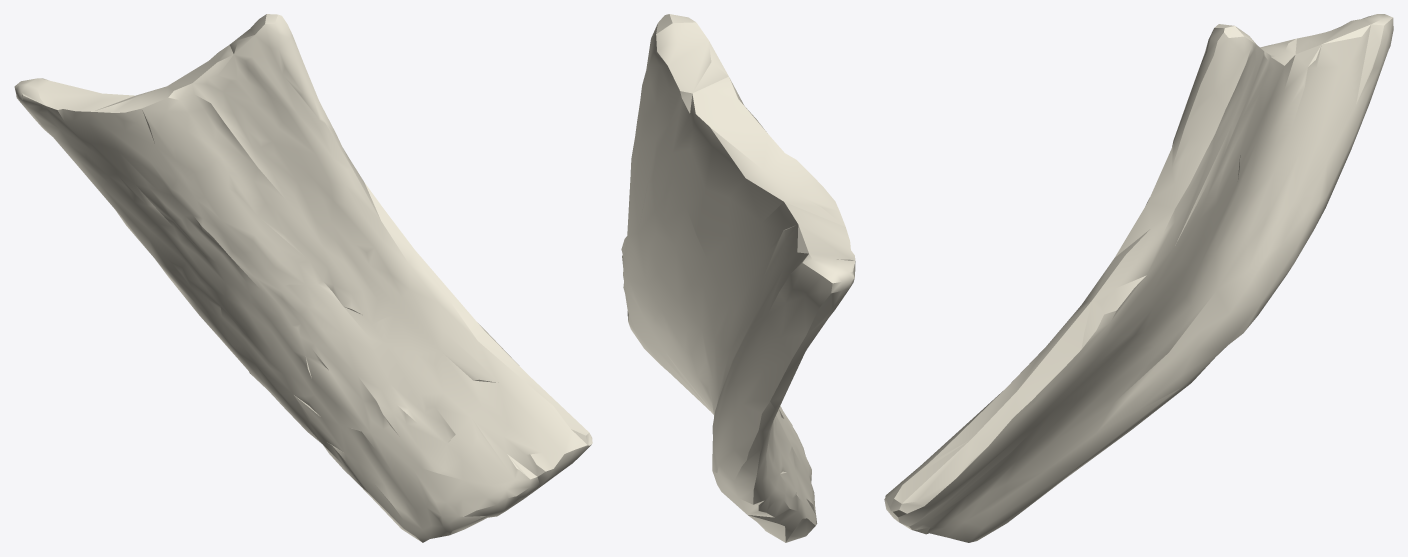
File: fma44073_mm1362.glb
3 renders of one model, left to right at view 1: azimuth 30°, elevation 25°; view 2: azimuth 150°, elevation 25°; view 3: azimuth 270°, elevation 25°, orthographic. The views are drawn at different scales.
Visible parts, largest first — view 1: FMA44073_MM1362; view 2: FMA44073_MM1362; view 3: FMA44073_MM1362.
Boxes of the visible parts, x1,y1,x2,y2 form: FMA44073_MM1362: (14, 14, 592, 542); FMA44073_MM1362: (621, 14, 855, 542); FMA44073_MM1362: (884, 14, 1393, 542).
Size of the model in its own units: 0.0205 by 0.0246 by 0.0229.
